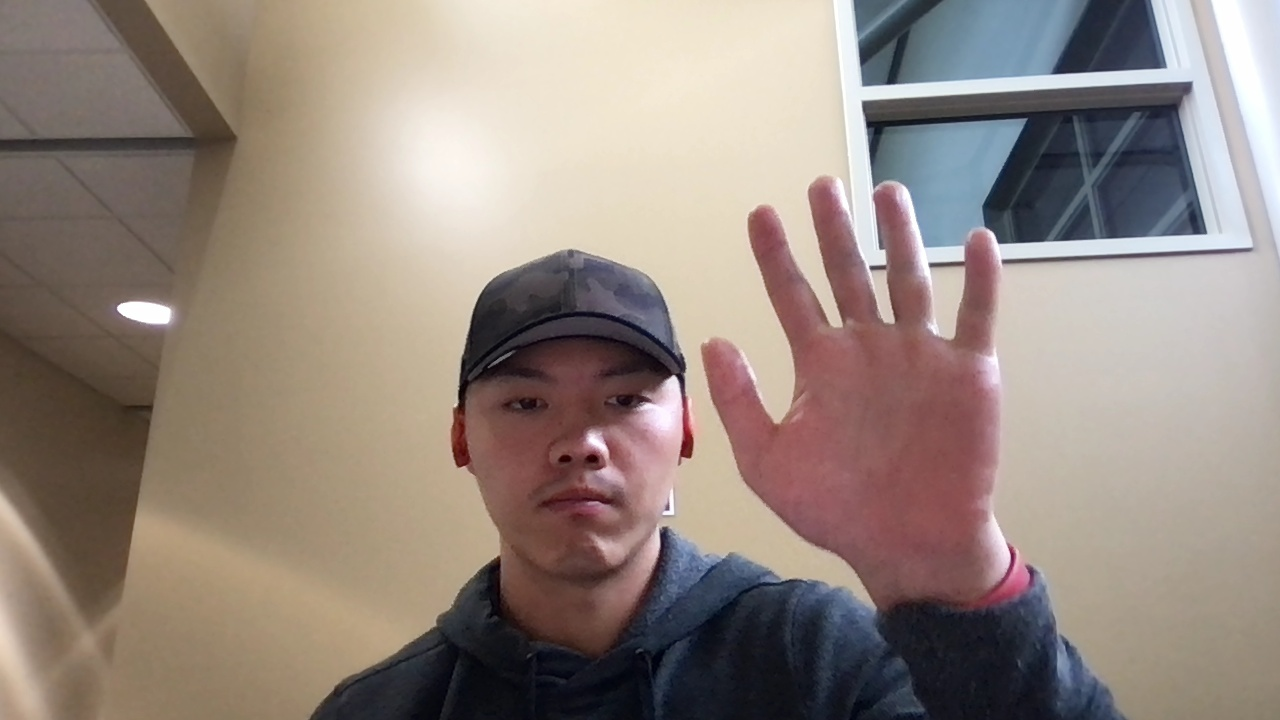Hello: (698, 172, 1019, 573)
